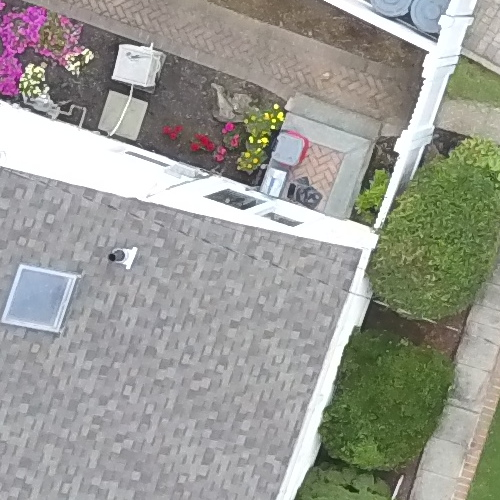container: (263, 118, 311, 170)
no larvae: (261, 116, 309, 168)
